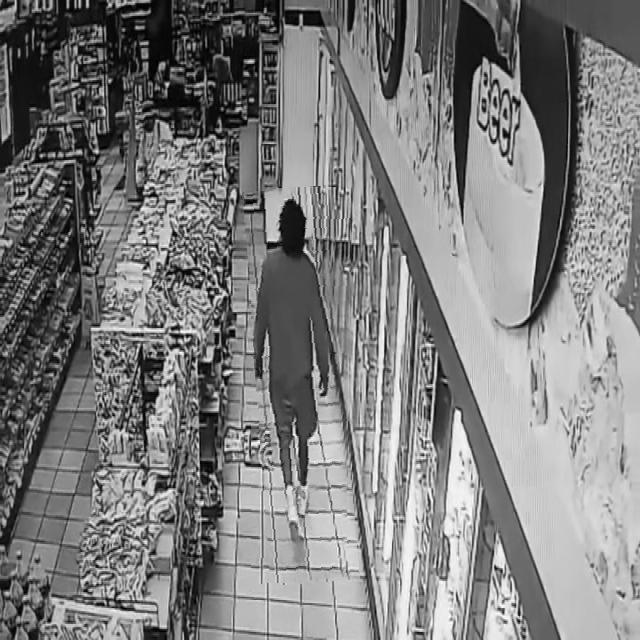Normal: (251, 187, 352, 584)
